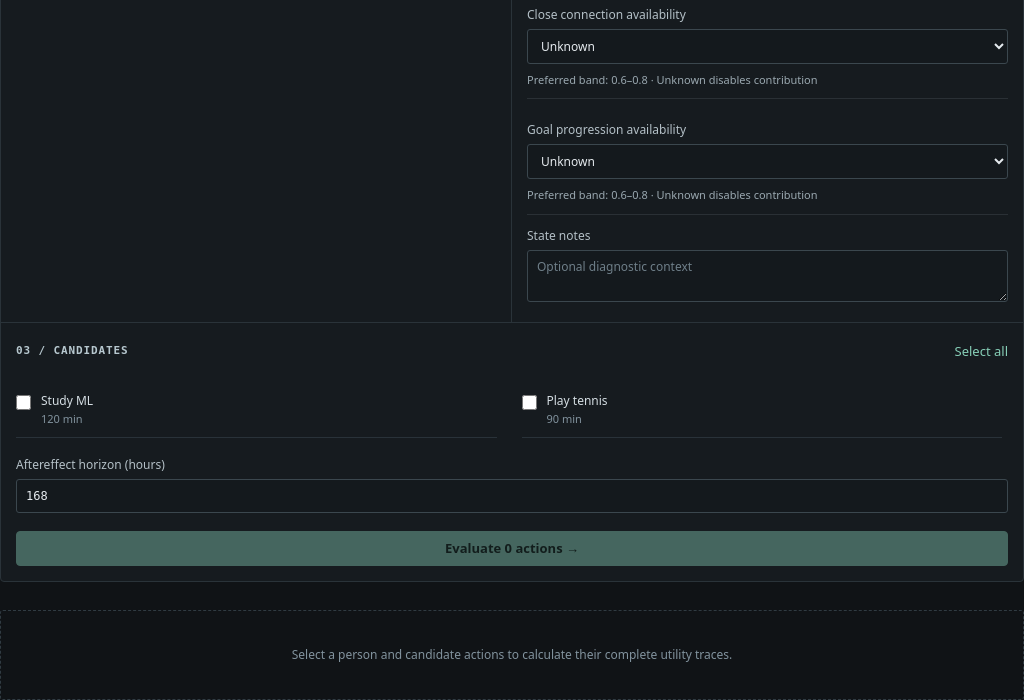
Test: comparison results › submits person, selected candidates, exact transient state and horizon, then renders backend ranking
(page scrolled)
Check: the button "Evaluate 0 actions →" is disabled, box left=16, top=530, right=1008, bottom=566
Click the button "Select all": (981, 351) left=954, top=338, right=1008, bottom=365
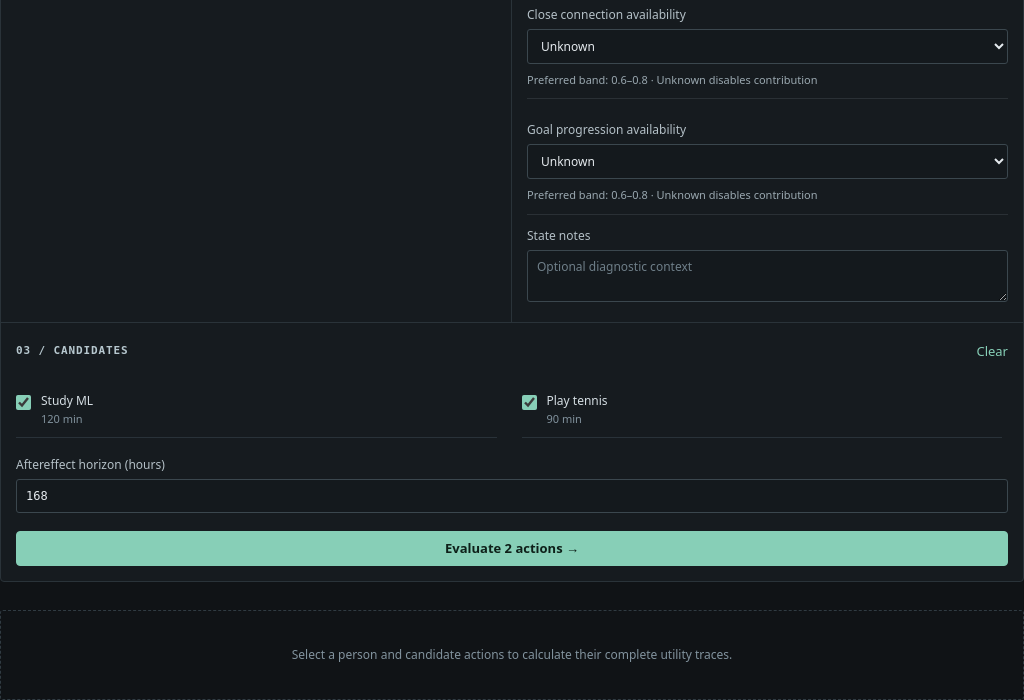
Click the button "Evaluate 2 actions →": (512, 548) left=16, top=530, right=1008, bottom=566
(page scrolled)
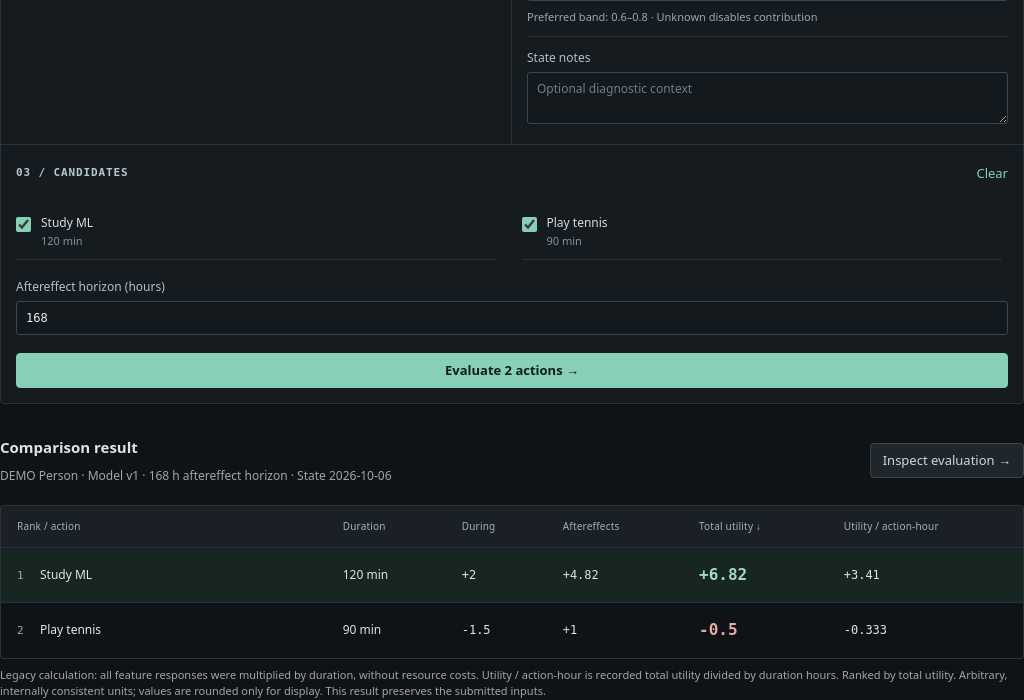
Check: the heading "Comparison result" is shown, box left=0, top=437, right=138, bottom=457
Check: the row "1 Study ML 120 min +2 +4.82 +6.82 +3.41" is shown, box left=1, top=547, right=1023, bottom=602
Check: the row "2 Play tennis 90 min -1.5 +1 -0.5 -0.333" is shown, box left=1, top=602, right=1023, bottom=658
